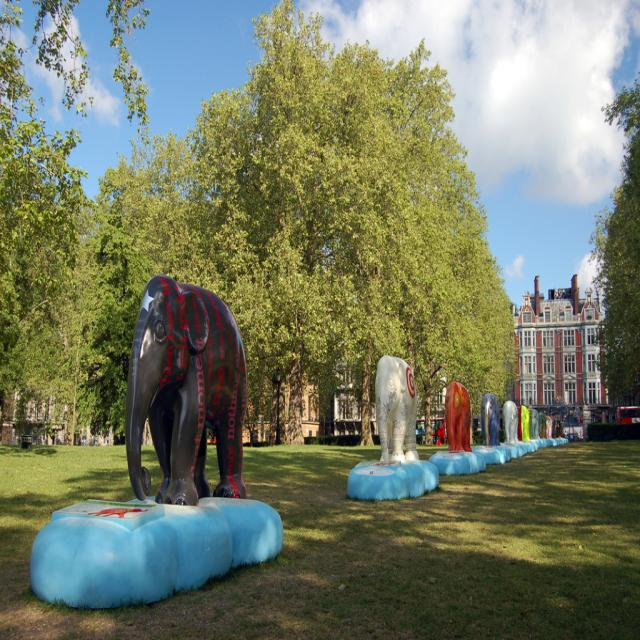elephant: (126, 276, 246, 508), (377, 354, 418, 456), (446, 382, 475, 448), (482, 388, 501, 450), (530, 408, 564, 439), (524, 402, 540, 437), (516, 396, 526, 442), (505, 406, 517, 442), (521, 405, 530, 439)
